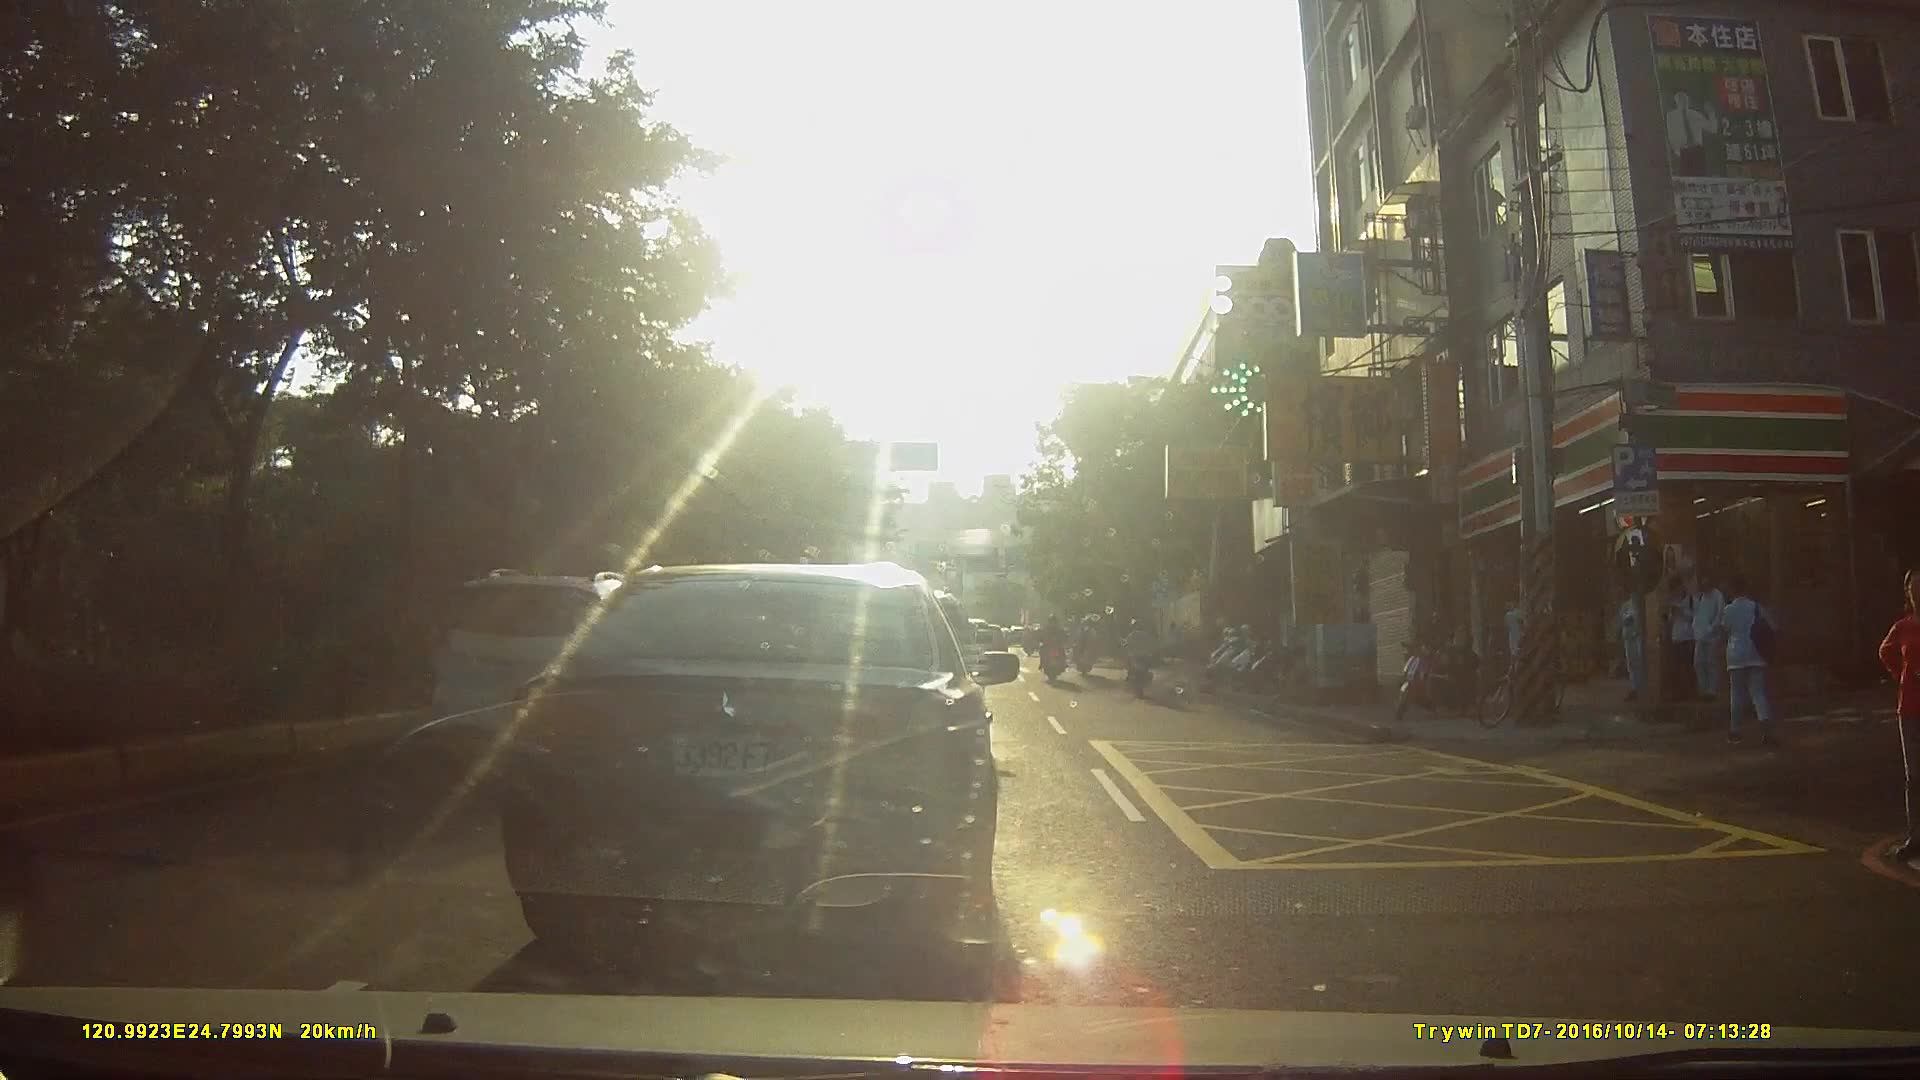pedestrian: (1876, 567, 1920, 854), (1715, 578, 1784, 754), (1680, 569, 1726, 703), (1659, 567, 1696, 709), (1617, 582, 1655, 708), (1505, 592, 1545, 706)
rider: (1124, 618, 1158, 702), (1039, 614, 1069, 684), (1071, 617, 1102, 678), (1020, 624, 1040, 658)
vehicle: (494, 556, 1029, 979), (408, 559, 690, 769)
